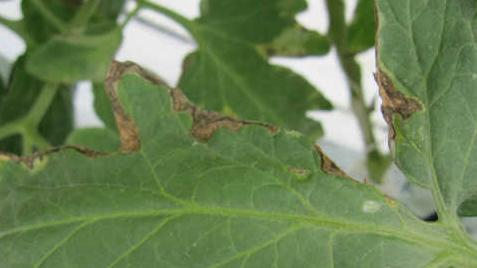Tomato leaf bacterial spot: (0, 62, 418, 268), (361, 0, 477, 240)
